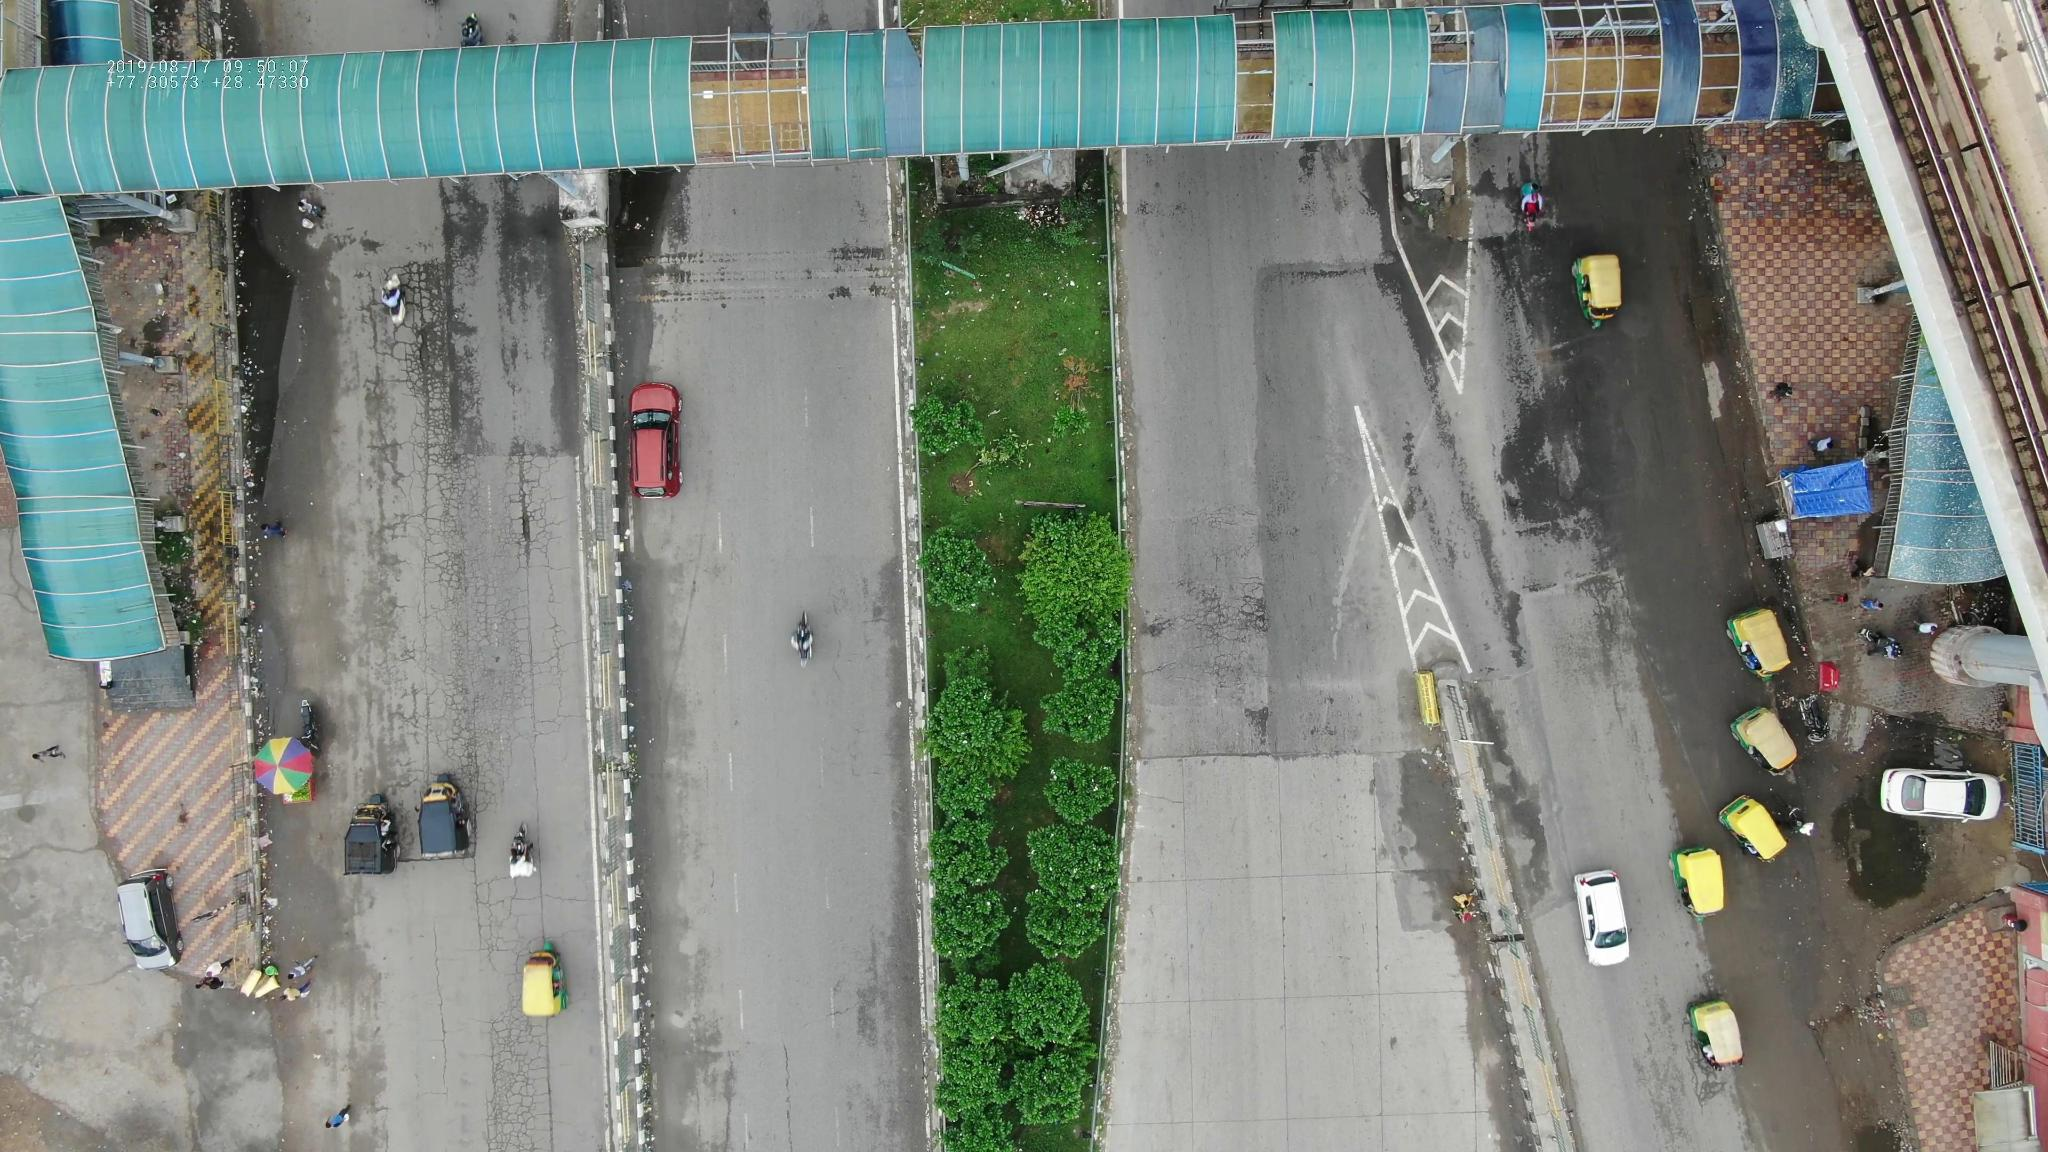Cracks: (336, 331, 561, 724), (1146, 518, 1308, 755)
